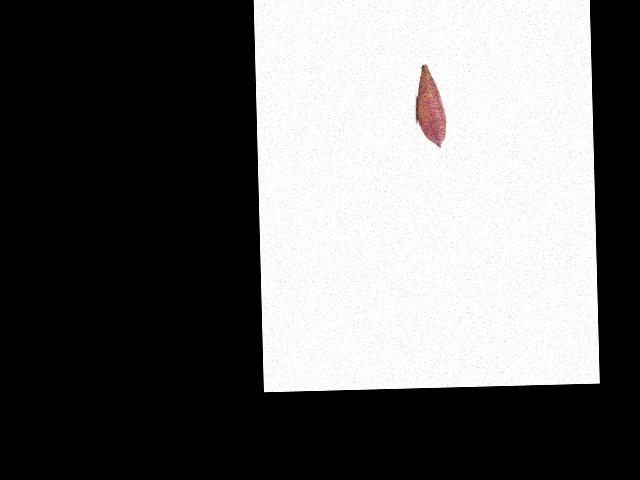sweet_potato: (417, 64, 446, 148)
